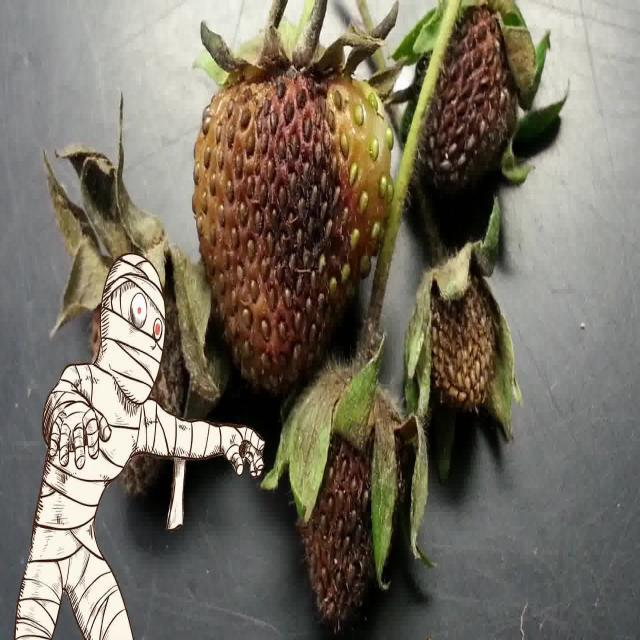Podredumbre de cuero: (197, 31, 399, 372), (86, 221, 206, 516), (288, 401, 418, 638), (416, 3, 534, 200), (414, 256, 514, 456)
